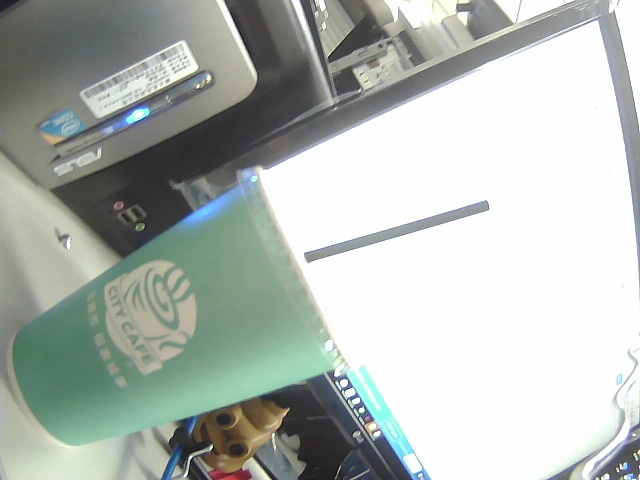beverage: (7, 143, 506, 460)
